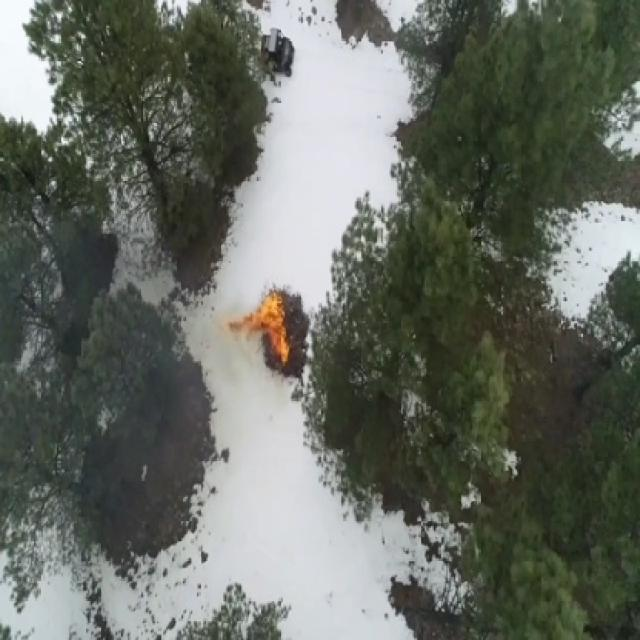Fire: (228, 289, 290, 366)
